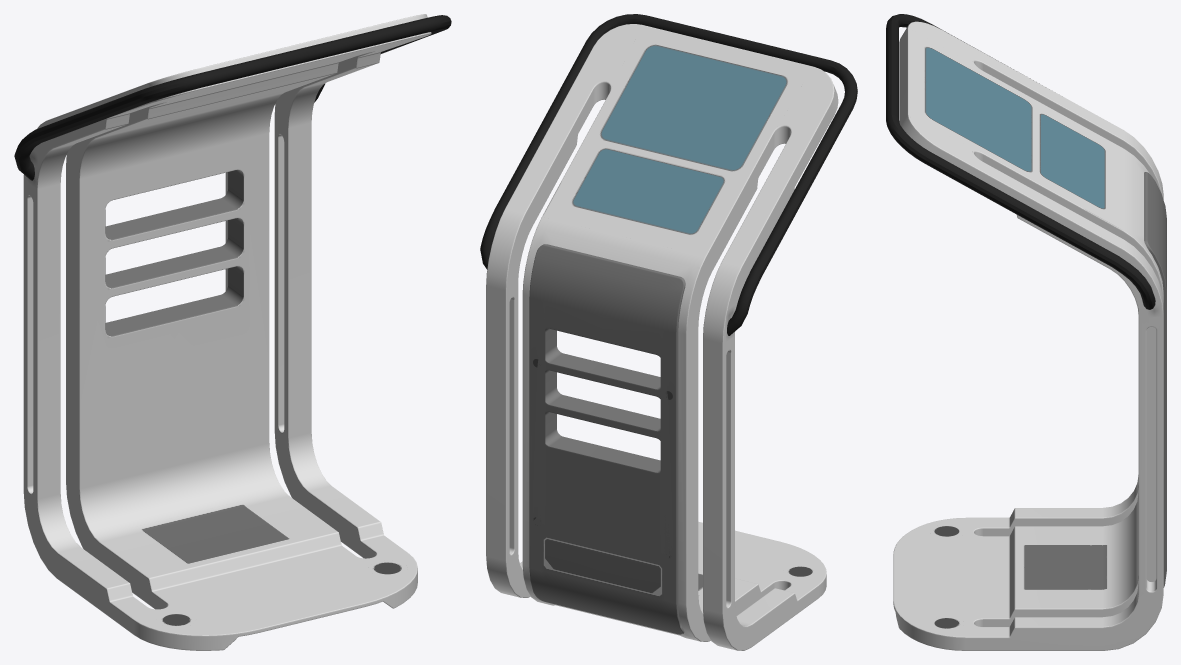
The model's file is Bridge_Terminal.fbx.
The picture shows the model from 3 angles, left to right: view 1: azimuth 30°, elevation 25°; view 2: azimuth 150°, elevation 25°; view 3: azimuth 270°, elevation 25°; orthographic projection. The views are drawn at different scales.
Visible parts, largest first — view 1: Terminal; view 2: Terminal; view 3: Terminal.
Part boxes in pixels (x1,y1,x2,y2): Terminal: (14, 14, 451, 650); Terminal: (480, 14, 857, 650); Terminal: (886, 14, 1166, 650).
Size of what is drawn, in the model's own units: 78.89 by 143 by 69.64.
